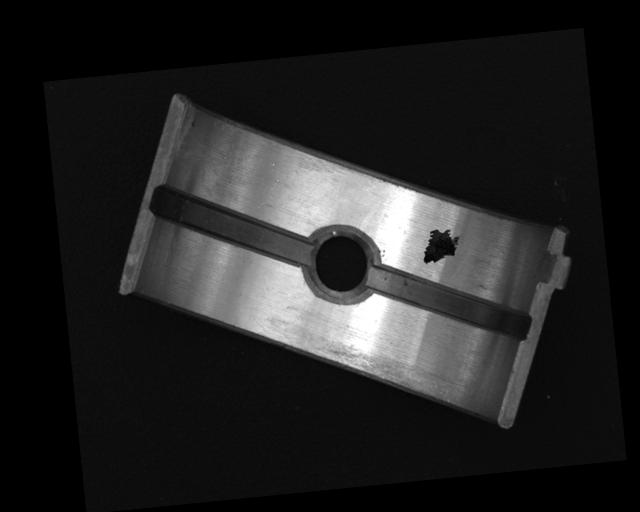blot: (420, 226, 464, 266)
gap: (151, 173, 313, 279), (367, 254, 531, 354)
hole: (300, 222, 381, 308)
scratch: (305, 331, 459, 417)
